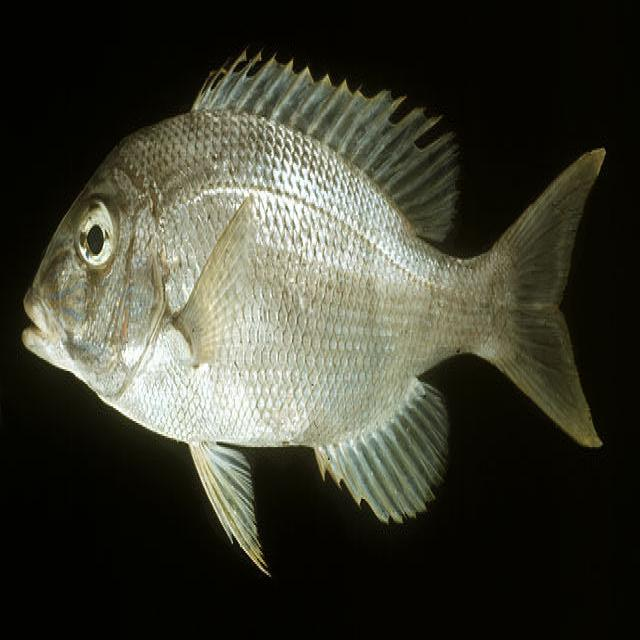ikan: (16, 56, 616, 563)
